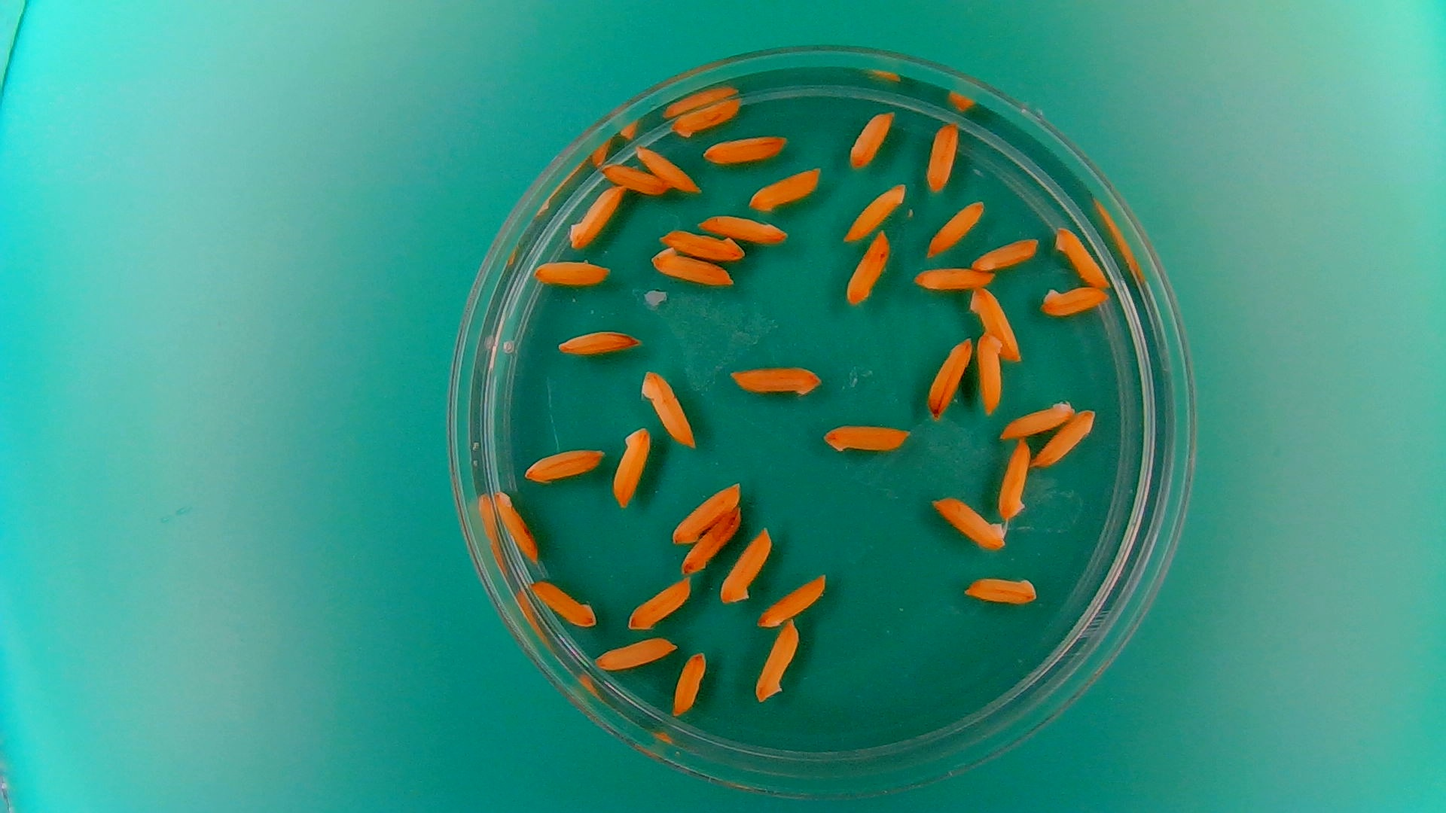no: (637, 365, 697, 451), (927, 492, 1009, 551), (669, 480, 742, 545), (717, 522, 773, 606), (966, 283, 1024, 361), (755, 570, 828, 629), (677, 509, 741, 575), (925, 333, 974, 419), (566, 183, 627, 251), (752, 617, 800, 703), (993, 434, 1037, 525), (625, 574, 694, 632), (1033, 406, 1097, 468), (726, 360, 825, 400), (844, 181, 908, 241), (844, 227, 891, 308), (1053, 225, 1110, 290), (609, 423, 651, 510), (526, 577, 596, 629), (650, 245, 734, 288), (926, 198, 986, 258), (746, 165, 822, 212), (819, 419, 912, 457), (633, 140, 699, 193), (491, 488, 538, 562), (520, 444, 606, 484), (999, 396, 1075, 440), (592, 635, 680, 672), (670, 96, 745, 139), (694, 211, 788, 245), (657, 227, 745, 263), (554, 325, 644, 358), (700, 131, 788, 164), (924, 117, 962, 193), (848, 107, 895, 168), (962, 571, 1041, 607), (670, 648, 709, 718), (532, 254, 612, 288), (970, 235, 1042, 271), (1038, 282, 1110, 317), (975, 328, 1004, 413), (909, 264, 997, 292), (599, 160, 669, 195)
